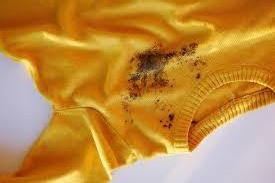earth: (129, 52, 170, 93), (161, 113, 173, 130), (180, 43, 198, 54), (194, 59, 202, 79)
